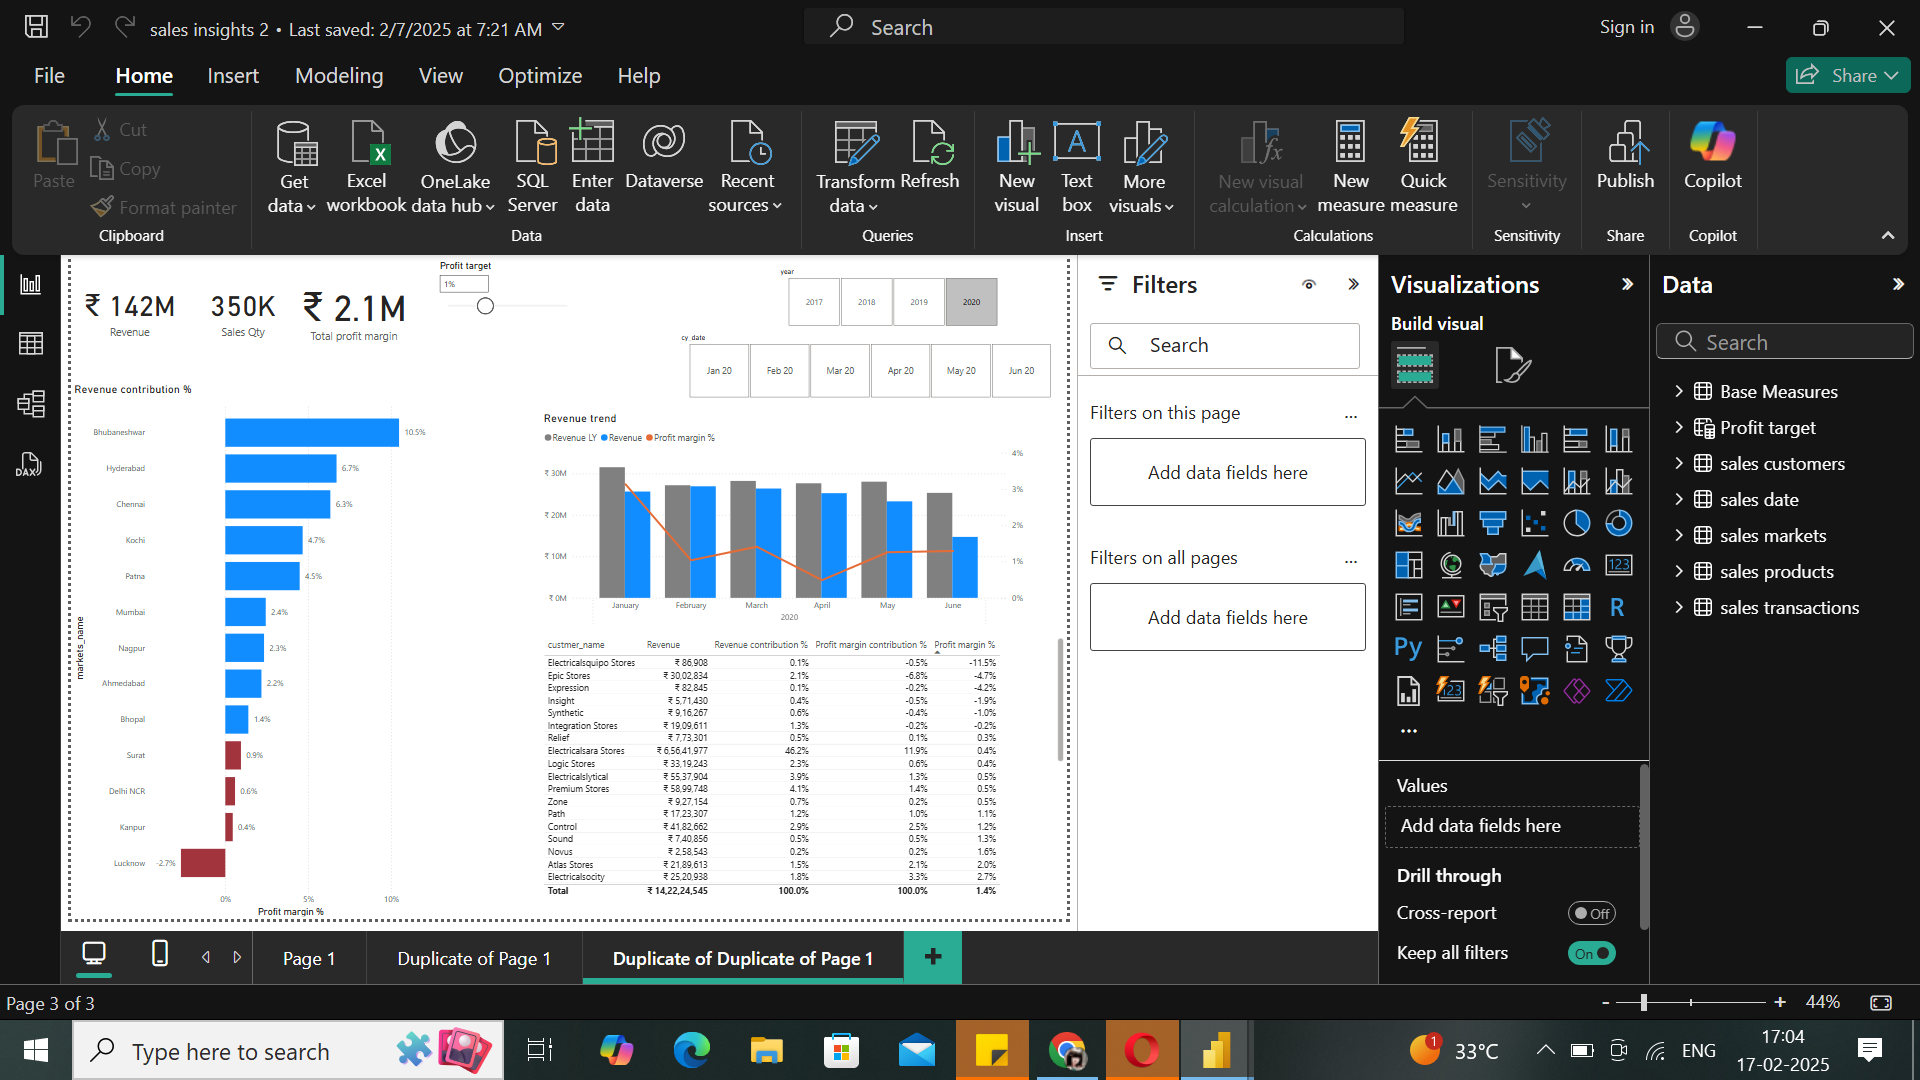

The dashboard page shown, as its layout file describes it:
{"tool":"powerbi","page":{"name":"Duplicate of Duplicate of Page 1","canvas":[1500,1000],"ordinal":2},"visuals":[{"type":"card","fields":{"Values":["Base Measures.Revenue"]},"box":[0,0,176.2,167.2],"z":0},{"type":"card","fields":{"Values":["Base Measures.Sales Qty"]},"box":[176.2,0,164.9,167.2],"z":1000},{"type":"slicer","fields":{"Values":["sales date.year"]},"box":[1055,13.6,363.7,99.4],"z":4000},{"type":"slicer","fields":{"Values":["sales date.cy_date"]},"box":[905.9,113,594.1,108.4],"z":5000},{"type":"tableEx","title":"Top 5 costumer","fields":{"Values":["sales customers.custmer_name","Base Measures.Revenue","Base Measures.Revenue contribution %","Base Measures.Profit margin contribution %","Base Measures.Profit margin %"]},"box":[707.1,571.5,792.9,399.9],"z":6000},{"type":"lineClusteredColumnComboChart","title":"Revenue trend","fields":{"Y":["Base Measures.Revenue LY","Base Measures.Revenue"],"Y2":["Base Measures.Profit margin %"],"Category":["sales date.cy_date.Variation.Date Hierarchy.Year","sales date.cy_date.Variation.Date Hierarchy.Month"]},"box":[707.1,234.9,731.9,332.1],"z":8000},{"type":"card","fields":{"Values":["Base Measures.Total profit margin"]},"box":[309.5,0,232.7,167.2],"z":9000},{"type":"barChart","title":"Revenue contribution % ","fields":{"Category":["sales markets.markets_name","sales markets.zone"],"Y":["Base Measures.Profit margin %"]},"box":[0,192,558,808.8],"z":10000},{"type":"slicer","fields":{"Values":["Profit target.Profit target"]},"box":[542.2,2.3,228.2,221.4],"z":10001}]}

Visuals, with their boxes on the page's 1500x1000 design canvas (x1, y1, x2, y2). These are canvas units, not pixel positions in the 1920x1080 screenshot, which may show the page scaled, cropped or inside an application window:
card - Base Measures.Revenue: 0/0/176/167
card - Base Measures.Sales Qty: 176/0/341/167
slicer - sales date.year: 1055/14/1419/113
slicer - sales date.cy_date: 906/113/1500/221
"Top 5 costumer" tableEx: 707/572/1500/971
"Revenue trend" lineClusteredColumnComboChart: 707/235/1439/567
card - Base Measures.Total profit margin: 310/0/542/167
"Revenue contribution % " barChart: 0/192/558/1001
slicer - Profit target.Profit target: 542/2/770/224
